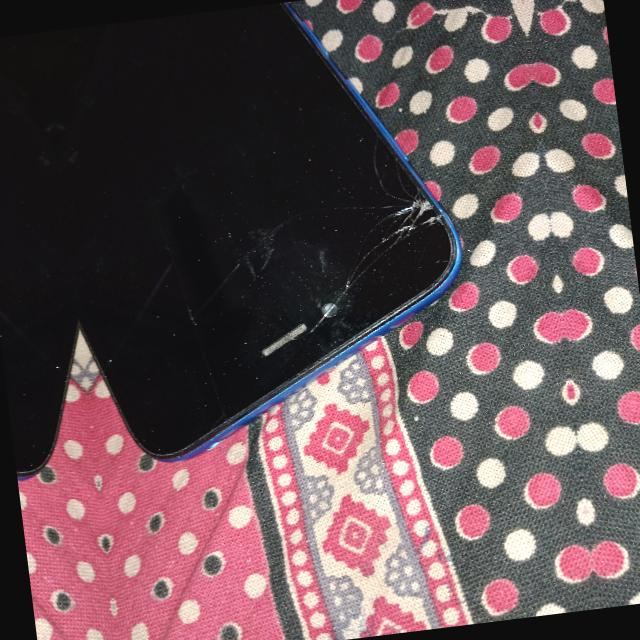phone_screen: (61, 3, 454, 457), (0, 66, 78, 474)
